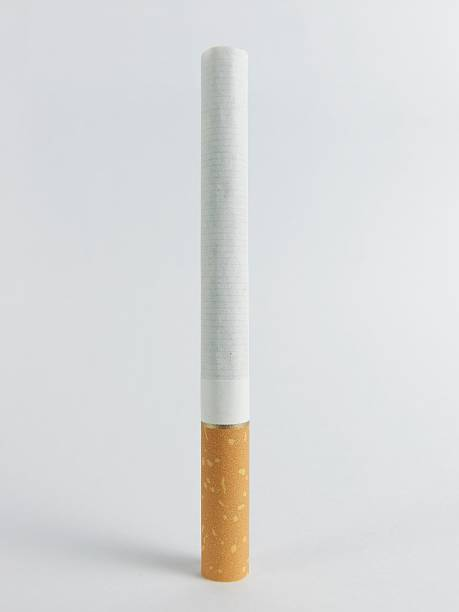cigarette: (200, 43, 251, 583)
